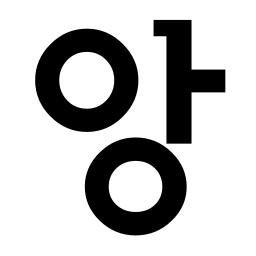Gaji: (147, 54, 212, 111)
